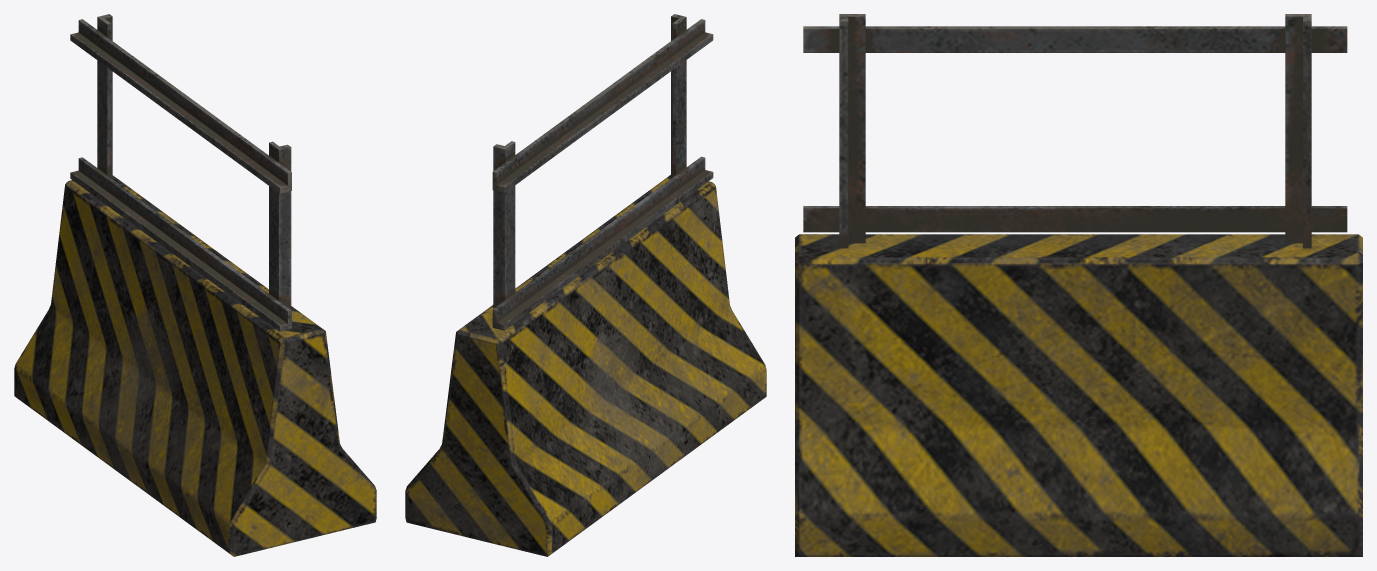
The model's file is concrete_barrier_iron.fbx.
3 views of the same model, side by side, from view 1: azimuth 30°, elevation 25°; view 2: azimuth 150°, elevation 25°; view 3: azimuth 270°, elevation 25° (orthographic). The views are drawn at different scales.
Visible parts, largest first — view 1: Concrete_Barrier_3; view 2: Concrete_Barrier_3; view 3: Concrete_Barrier_3.
Part boxes in pixels (box(x1,y1,x2,y2)): Concrete_Barrier_3: box(14, 14, 376, 556); Concrete_Barrier_3: box(405, 14, 766, 556); Concrete_Barrier_3: box(795, 14, 1362, 556).
Bounding box in the file's own units: 67.56 × 166 × 174.
1 material, 1 textured.
